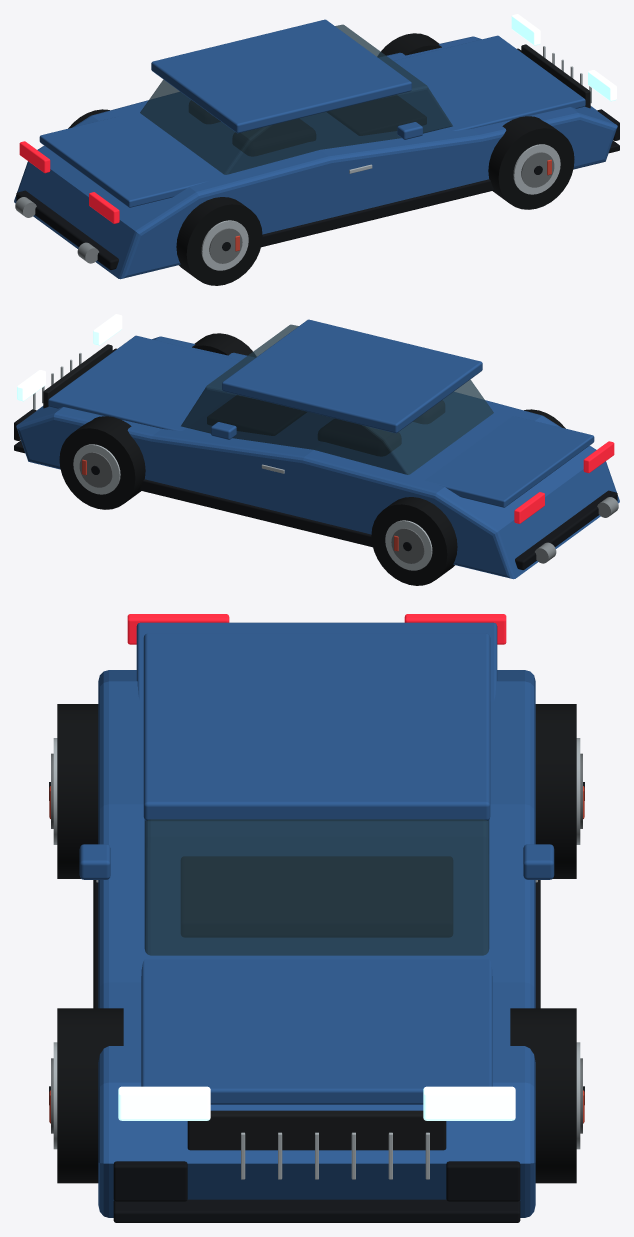
File: ford_shelby_gt500.glb
3 views of the same model, one above another, from view 1: azimuth 30°, elevation 25°; view 2: azimuth 150°, elevation 25°; view 3: azimuth 270°, elevation 25° (orthographic). The views are drawn at different scales.
Visible parts, largest first — view 1: sculpted_body, roof, glasshouse, hood_center, rear_deck, front_right_wheel_tire, rear_right_wheel_tire, side_skirt_1, dashboard, seat_1, rear_diffuser, front_right_wheel_rim (+9 smaller); view 2: sculpted_body, roof, glasshouse, hood_center, rear_deck, front_left_wheel_tire, rear_left_wheel_tire, side_skirt_-1, dashboard, seat_-1, rear_diffuser, front_left_wheel_rim (+9 smaller); view 3: sculpted_body, roof, hood_center, glasshouse, dashboard, front_grille, front_splitter, front_left_wheel_tire, front_right_wheel_tire, rear_left_wheel_tire, rear_right_wheel_tire, rear_deck (+8 smaller).
Boxes of the visible parts, x1,y1,x2,y2 form: sculpted_body: (14, 36, 617, 279); roof: (151, 19, 411, 133); glasshouse: (140, 24, 452, 174); hood_center: (386, 35, 585, 130); rear_deck: (39, 116, 209, 207); front_right_wheel_tire: (488, 116, 574, 209); rear_right_wheel_tire: (176, 197, 262, 285); side_skirt_1: (261, 179, 494, 247); dashboard: (327, 95, 426, 135); seat_1: (233, 119, 315, 155); rear_diffuser: (16, 190, 118, 269); front_right_wheel_rim: (513, 144, 560, 194); sculpted_body: (16, 336, 619, 579); roof: (222, 319, 482, 433); glasshouse: (181, 324, 493, 474); hood_center: (48, 335, 247, 430); rear_deck: (424, 416, 594, 507); front_left_wheel_tire: (59, 416, 145, 509); rear_left_wheel_tire: (371, 497, 457, 585); side_skirt_-1: (139, 479, 372, 547); dashboard: (207, 395, 306, 435); seat_-1: (318, 419, 400, 455); rear_diffuser: (515, 490, 617, 569); front_left_wheel_rim: (73, 444, 120, 494); sculpted_body: (98, 670, 535, 1217); roof: (143, 633, 490, 820); hood_center: (141, 959, 492, 1104); glasshouse: (144, 819, 489, 955); dashboard: (181, 857, 452, 936); front_grille: (187, 1110, 446, 1150); front_splitter: (113, 1199, 520, 1222); front_left_wheel_tire: (510, 1008, 576, 1183); front_right_wheel_tire: (57, 1008, 123, 1183); rear_left_wheel_tire: (535, 704, 576, 878); rear_right_wheel_tire: (57, 704, 98, 878); rear_deck: (136, 622, 497, 701).
Size of the model in its own units: 5.09 by 1.27 by 2.26.
